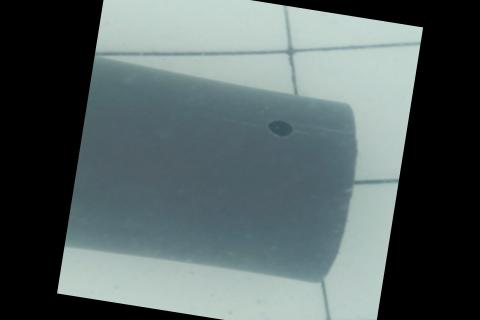kebocoran: (263, 115, 296, 138)
